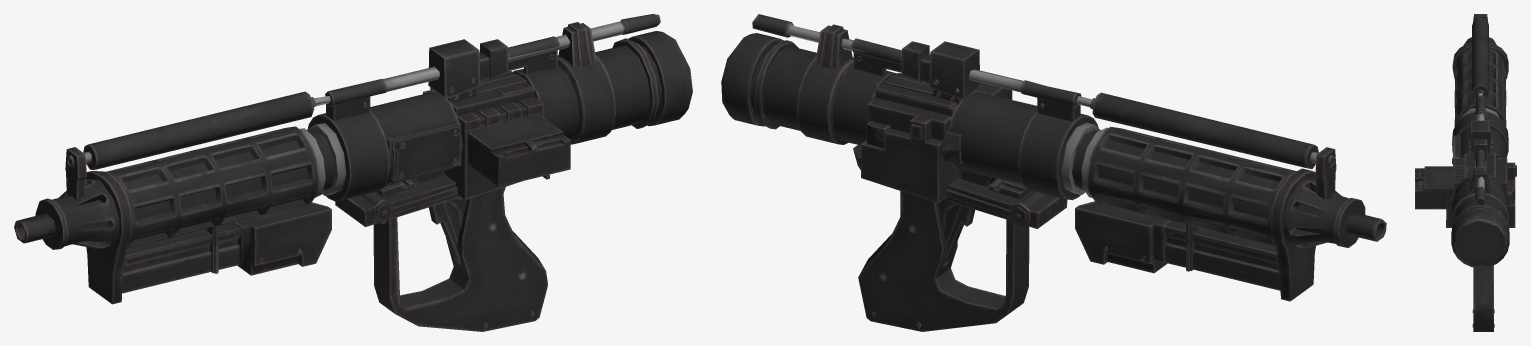
The picture shows the model from 3 angles, left to right: view 1: azimuth 30°, elevation 25°; view 2: azimuth 150°, elevation 25°; view 3: azimuth 270°, elevation 25°; orthographic projection. The views are drawn at different scales.
Visible parts, largest first — view 1: Object_2; view 2: Object_2; view 3: Object_2.
Boxes of the visible parts, <box> form: Object_2: <box>14,14,692,331</box>; Object_2: <box>721,14,1386,331</box>; Object_2: <box>1415,14,1516,331</box>.
Size of the model in its own units: 41.89 by 17.59 by 8.9.
1 material, 1 textured.
